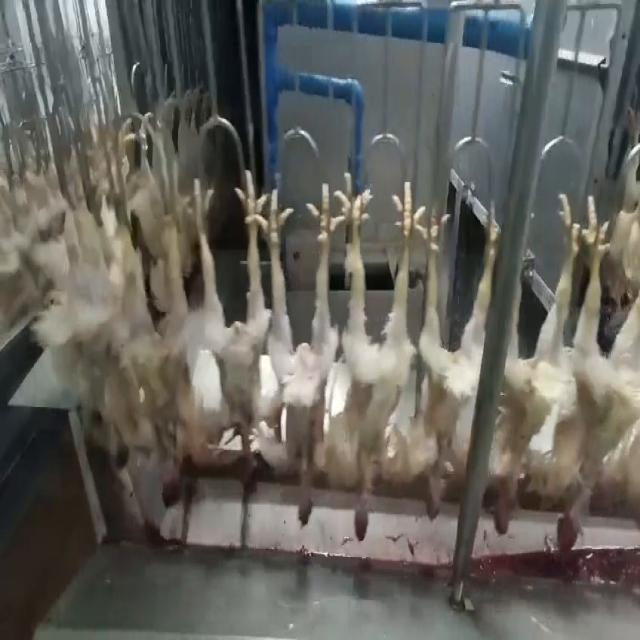chicken: (329, 169, 431, 543), (405, 172, 506, 521), (487, 176, 580, 541), (256, 161, 339, 531), (560, 173, 639, 554), (172, 170, 266, 478), (131, 170, 183, 467)
